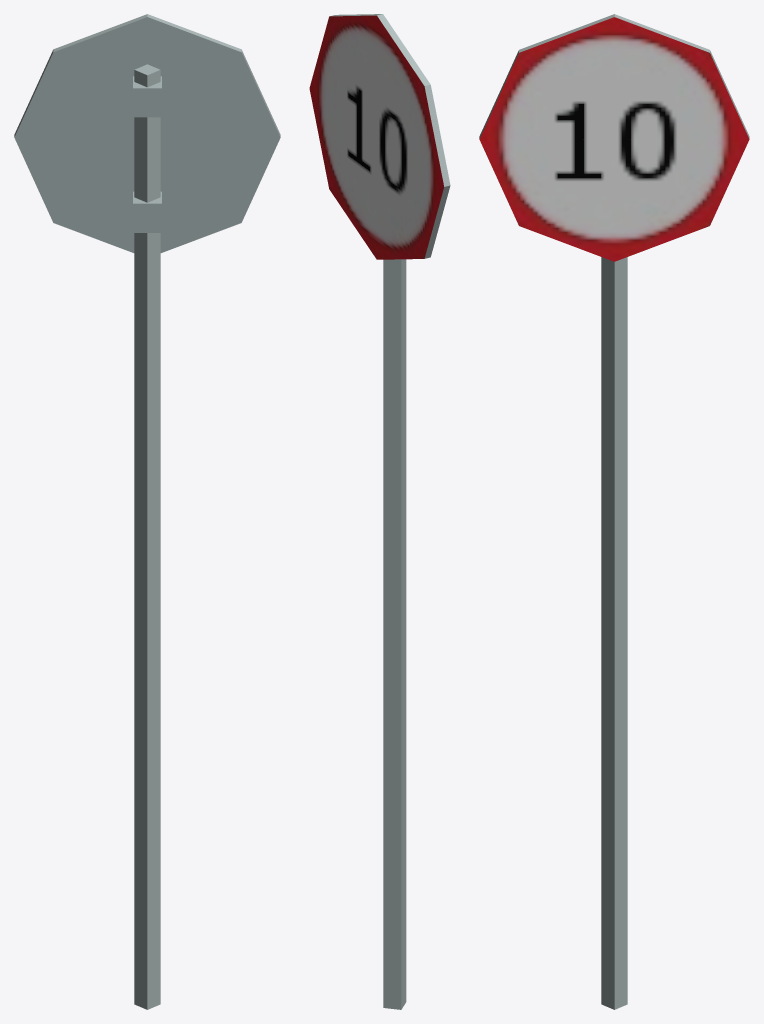
The model's file is traffic sign speed.fbx.
3 views of the same model, side by side, from view 1: azimuth 90°, elevation 25°; view 2: azimuth 210°, elevation 25°; view 3: azimuth 270°, elevation 25° (orthographic).
Visible parts, largest first — view 1: sign cycle form; view 2: sign cycle form; view 3: sign cycle form.
Part boxes in pixels (x1,y1,x2,y2): sign cycle form: (14, 14, 280, 1009); sign cycle form: (309, 14, 450, 1009); sign cycle form: (479, 14, 749, 1009).
Bounding box in the file's own units: 6.21 × 189 × 46.53.
